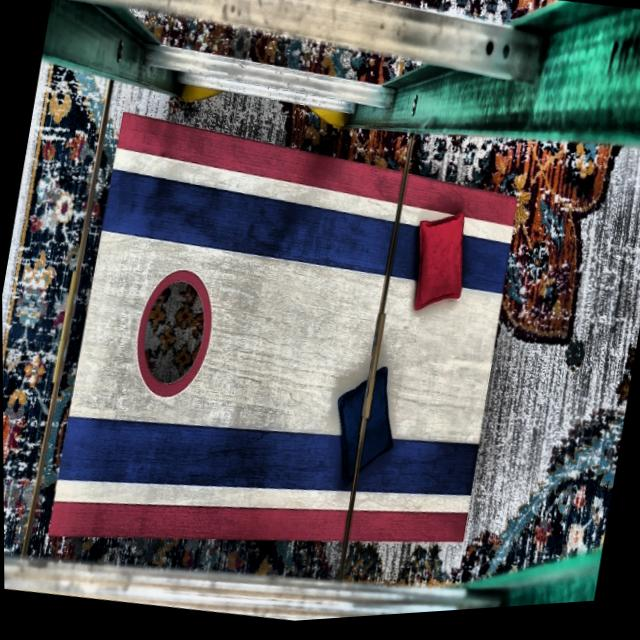blue-bean-bag: (323, 364, 403, 497)
board: (52, 134, 518, 568)
hole: (125, 263, 222, 410)
red-bean-bag: (404, 212, 473, 323)
